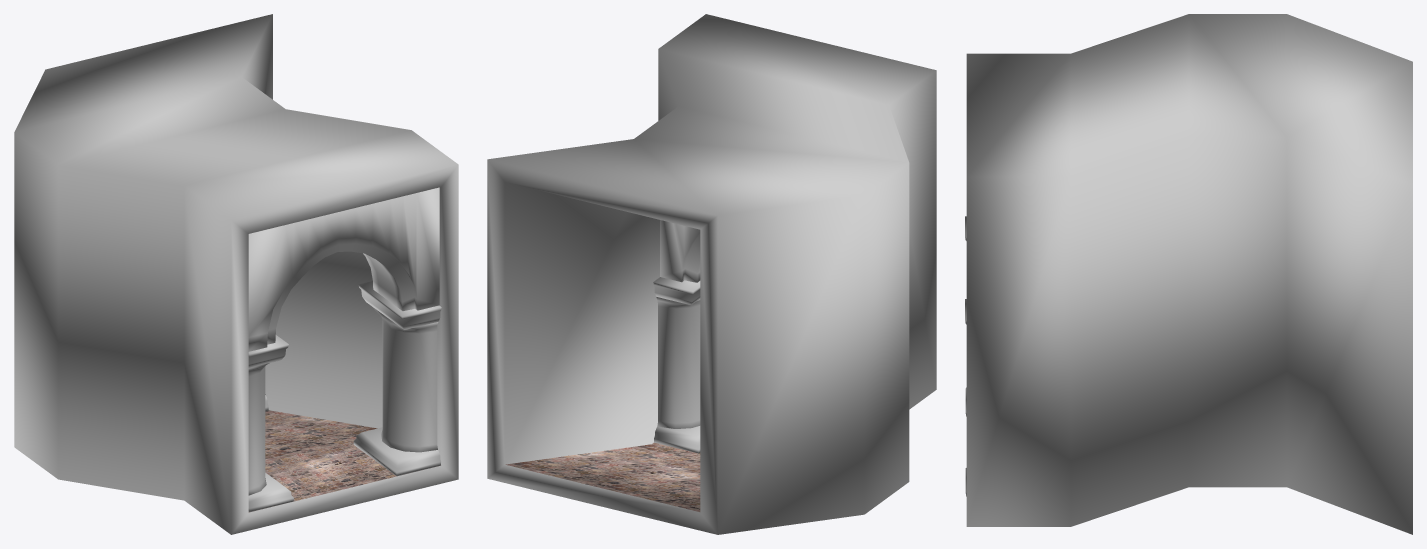
Rendered from templepieceC.dae.
3 views of the same model, side by side, from view 1: azimuth 30°, elevation 25°; view 2: azimuth 150°, elevation 25°; view 3: azimuth 270°, elevation 25° (orthographic). The views are drawn at different scales.
Visible parts, largest first — view 1: meshU3D; view 2: meshU3D; view 3: meshU3D.
Part boxes in pixels (x1,y1,x2,y2): meshU3D: (14,14,458,534); meshU3D: (487,14,936,534); meshU3D: (965,14,1412,534).
Bounding box in the file's own units: 300 × 287 × 332.
